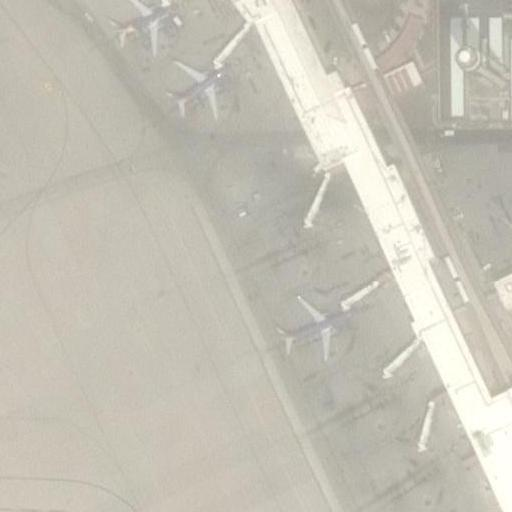Aircraft: (276, 291, 350, 363), (160, 54, 231, 114), (102, 0, 178, 54)
